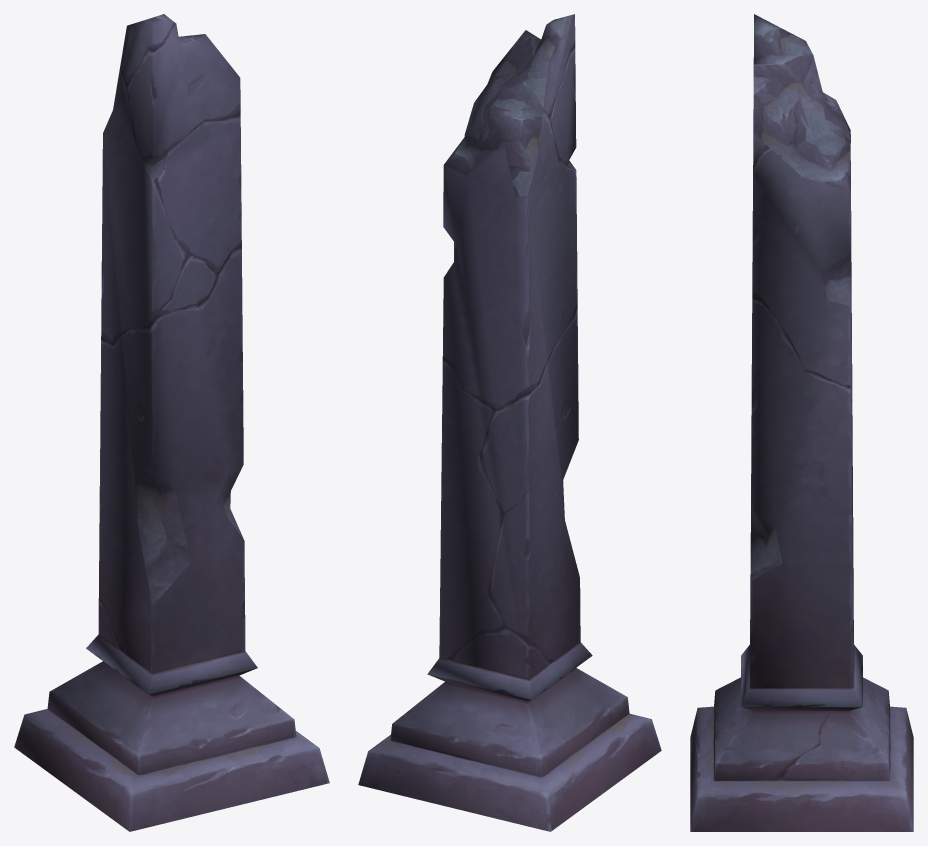
File: SleepingGarden_SmallColumn02.fbx
3 renders of one model, left to right at view 1: azimuth 30°, elevation 25°; view 2: azimuth 150°, elevation 25°; view 3: azimuth 270°, elevation 25°, orthographic. The views are drawn at different scales.
Parts seen in each view (by area): view 1: SleepingGarden_SmallColumn02; view 2: SleepingGarden_SmallColumn02; view 3: SleepingGarden_SmallColumn02.
Boxes of the visible parts, bbox=[...] form: SleepingGarden_SmallColumn02: bbox=[14, 14, 329, 831]; SleepingGarden_SmallColumn02: bbox=[358, 14, 661, 831]; SleepingGarden_SmallColumn02: bbox=[690, 14, 913, 831].
Bounding box in the file's own units: 1.22 × 4.54 × 1.22.
2 materials, 2 textured.
